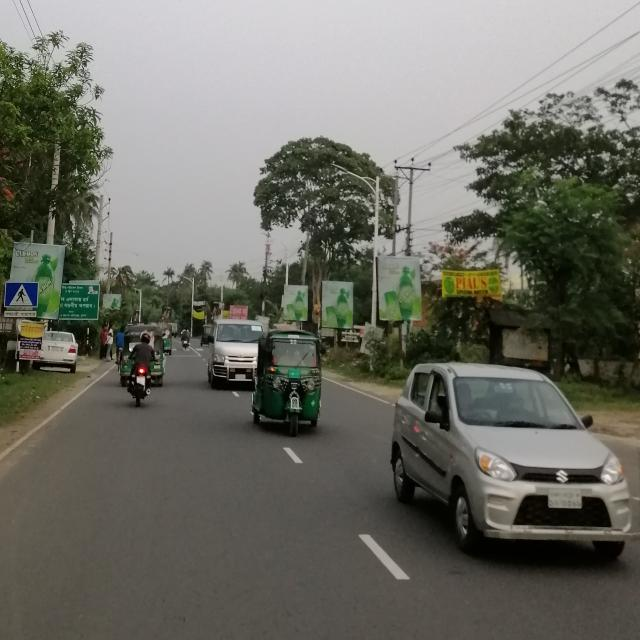CNG: (247, 326, 345, 437), (114, 314, 185, 392), (135, 314, 183, 363)
Car: (370, 328, 640, 589), (32, 322, 97, 386)
Micro-Bus: (206, 308, 286, 405)
Motorbike: (112, 352, 165, 414)
